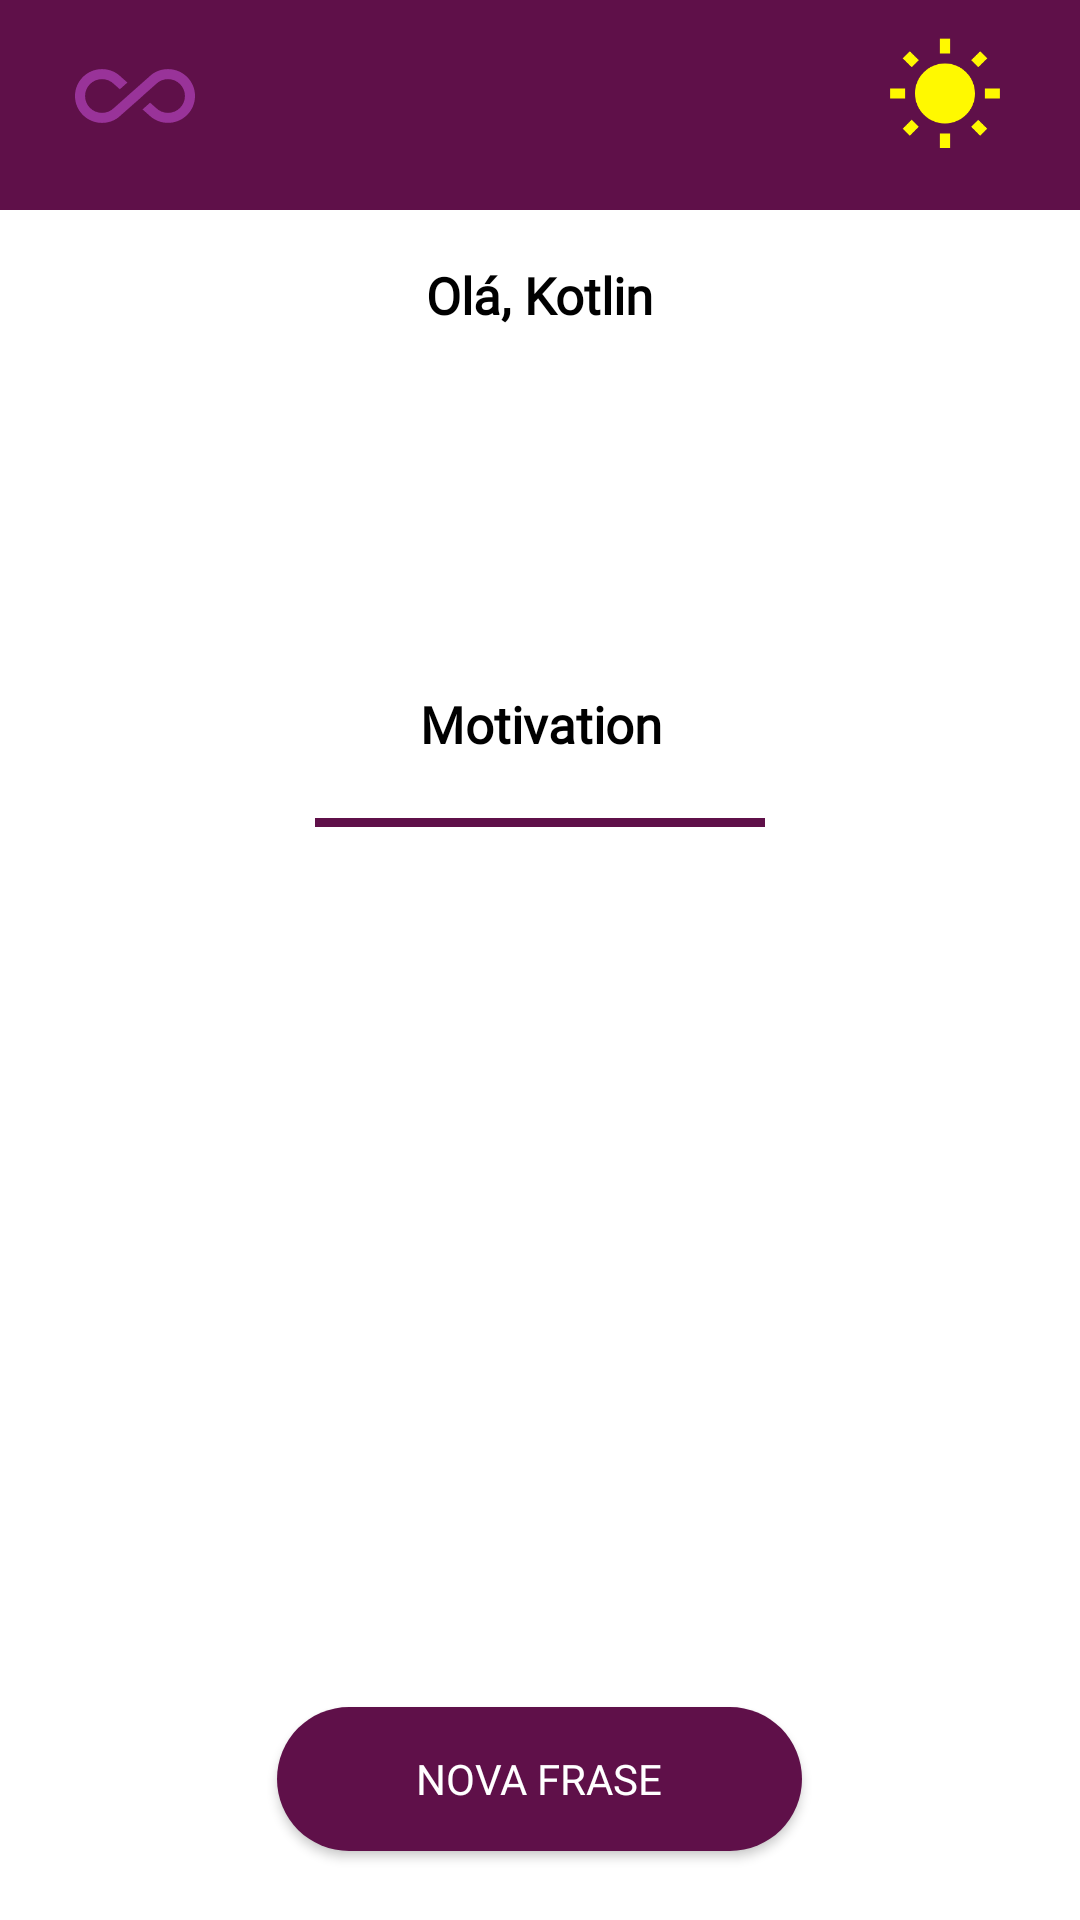

Where icons sit on this 1080px×1920px app screen, as (x1, y1, x2, y2):
infinity: (75, 69, 195, 123)
sunny: (890, 38, 1000, 148)
